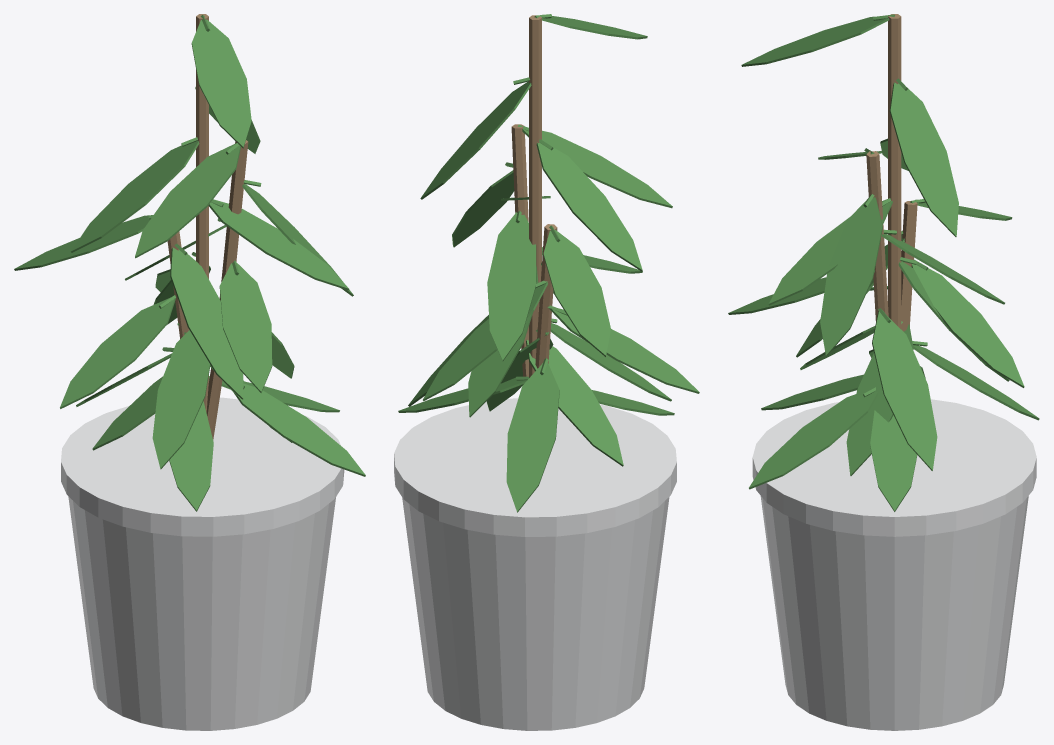
Rendered from SM_Prop_Plant.fbx.
The picture shows the model from 3 angles, left to right: view 1: azimuth 30°, elevation 25°; view 2: azimuth 150°, elevation 25°; view 3: azimuth 270°, elevation 25°; orthographic projection.
Visible parts, largest first — view 1: SM_Prop_Plant; view 2: SM_Prop_Plant; view 3: SM_Prop_Plant.
Boxes of the visible parts, x1,y1,x2,y2 form: SM_Prop_Plant: [14, 14, 365, 730]; SM_Prop_Plant: [394, 14, 699, 730]; SM_Prop_Plant: [728, 14, 1039, 730].
Size of the model in its own units: 0.5706 by 0.6157 by 1.35.
